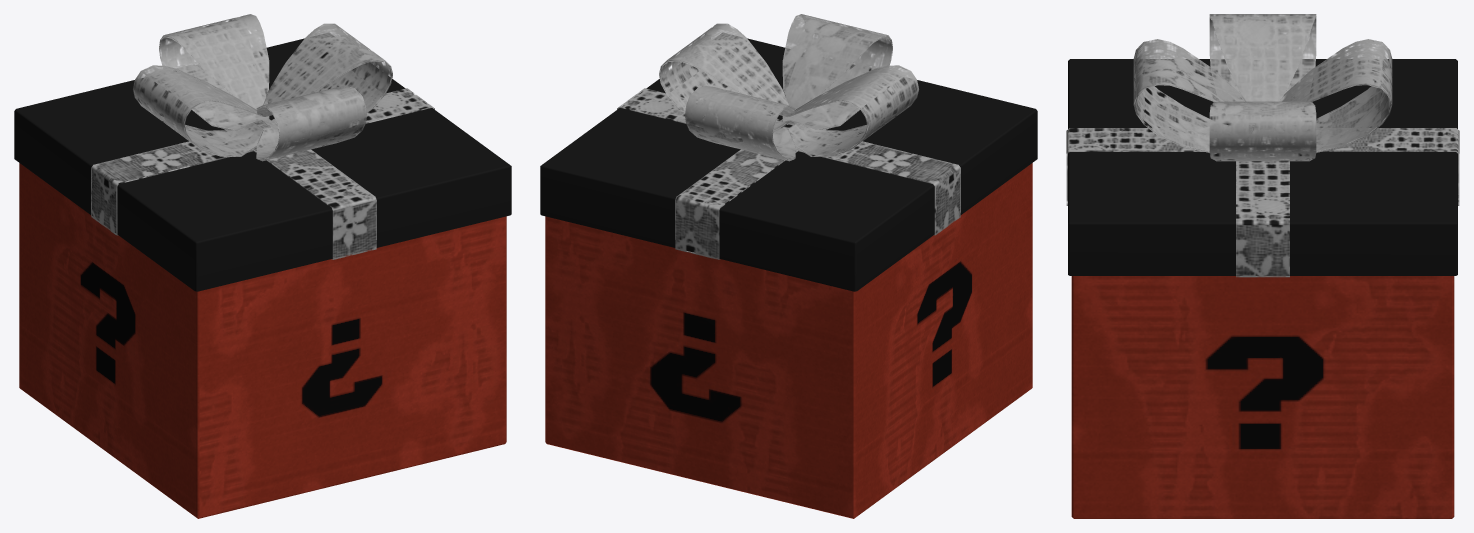
3 views of the same model, side by side, from view 1: azimuth 30°, elevation 25°; view 2: azimuth 150°, elevation 25°; view 3: azimuth 270°, elevation 25° (orthographic). The views are drawn at different scales.
Parts seen in each view (by area): view 1: SK_GiftBox (×3); view 2: SK_GiftBox (×3); view 3: SK_GiftBox (×3).
Boxes of the visible parts, x1,y1,x2,y2 form: SK_GiftBox (×3): (14,14,511,518); SK_GiftBox (×3): (540,14,1037,518); SK_GiftBox (×3): (1066,14,1459,518).
Size of the model in its own units: 1.88 by 2 by 1.88.
Materials: 3 (3 with a texture image).
